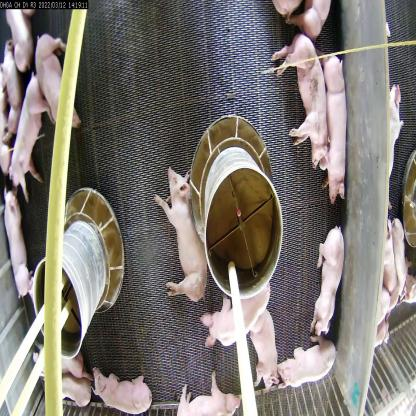Pig: (272, 26, 329, 185), (154, 158, 213, 304), (311, 34, 350, 206), (199, 269, 275, 351), (8, 65, 50, 204), (29, 19, 79, 130), (308, 221, 346, 339), (87, 354, 157, 416), (3, 183, 37, 304), (242, 295, 282, 392), (277, 328, 338, 391), (175, 370, 243, 415), (383, 82, 406, 212)
